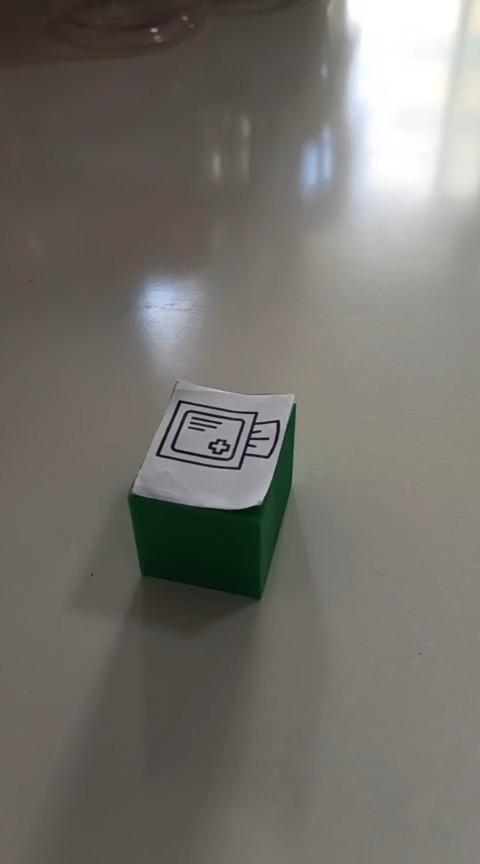Gauze: (126, 378, 297, 599)
